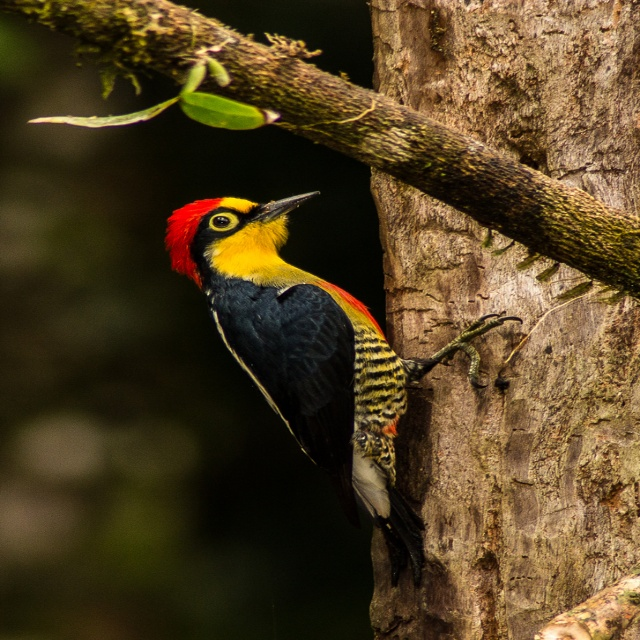Woodpecker: (164, 191, 524, 589)
